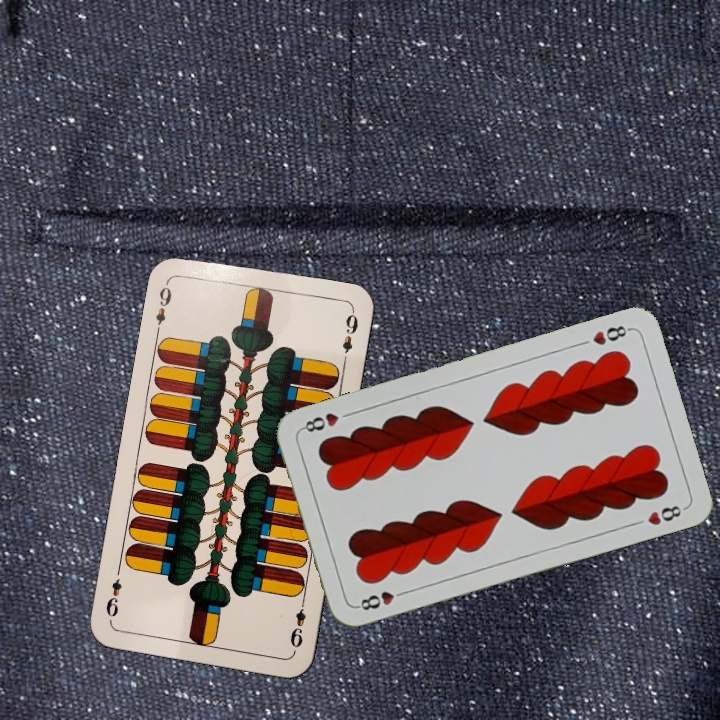E9: (151, 277, 174, 335), (286, 594, 309, 650)
H8: (352, 586, 410, 613), (588, 321, 634, 348)
